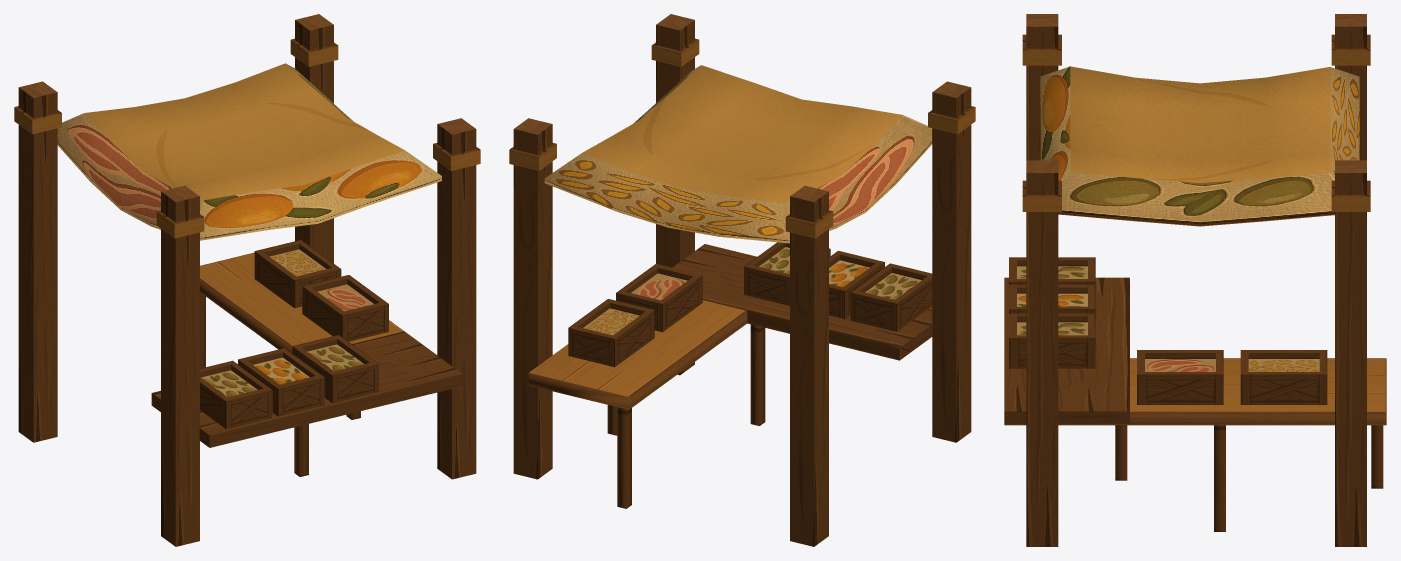
The model's file is sale_point.fbx.
3 renders of one model, left to right at view 1: azimuth 30°, elevation 25°; view 2: azimuth 150°, elevation 25°; view 3: azimuth 270°, elevation 25°, orthographic. The views are drawn at different scales.
Visible parts, largest first — view 1: sale_point; view 2: sale_point; view 3: sale_point.
Boxes of the visible parts, x1,y1,x2,y2 form: sale_point: (14, 14, 480, 546); sale_point: (509, 14, 975, 546); sale_point: (1004, 14, 1386, 546).
Size of the model in its own units: 318 by 343 by 317.
Materials: 1 (1 with a texture image).
